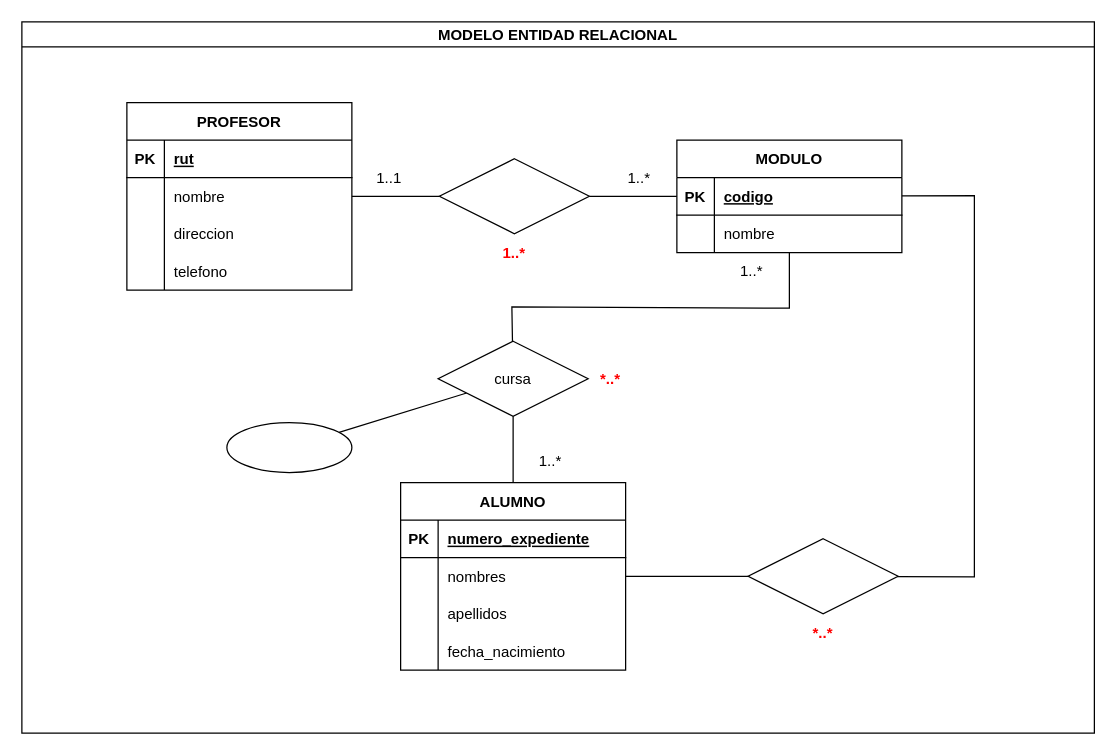
This 1116x755 diagram has some shape labels left out. Here are the shapes that lost their labels. From the top down, the centre of each, then its label:
the point at 513,196: imparte
the point at 289,446: semestre
the point at 822,576: tiene_delegado
